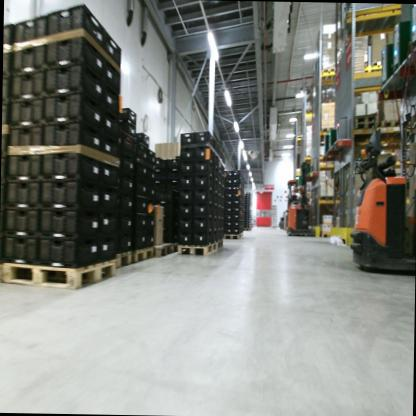pallet: (0, 255, 116, 296), (175, 240, 218, 259), (131, 246, 153, 267), (377, 116, 405, 131), (114, 251, 133, 271), (319, 62, 334, 87), (153, 241, 172, 260), (354, 122, 377, 137), (318, 125, 335, 144), (354, 114, 378, 126), (170, 240, 179, 259), (222, 233, 244, 240), (317, 193, 333, 202), (320, 232, 337, 239), (217, 239, 224, 252), (241, 226, 253, 232)
pallet_truck: (349, 124, 416, 286), (284, 203, 316, 237), (280, 177, 300, 225)
small_load_carrier: (46, 3, 106, 56), (46, 29, 102, 79), (46, 63, 105, 105), (44, 89, 102, 131), (40, 230, 98, 272), (43, 144, 99, 187), (42, 173, 101, 212), (42, 115, 98, 156), (39, 202, 97, 238), (8, 96, 45, 134), (5, 180, 45, 213), (13, 15, 49, 50), (10, 68, 46, 102), (10, 42, 46, 76), (2, 206, 41, 237), (1, 232, 41, 262), (5, 152, 43, 182), (8, 123, 44, 152), (103, 20, 123, 72), (99, 102, 119, 145), (118, 128, 137, 166), (104, 56, 121, 98), (97, 139, 120, 169), (103, 78, 120, 118), (96, 160, 118, 188), (96, 209, 117, 235), (98, 237, 116, 265), (119, 153, 135, 183), (97, 190, 118, 210), (121, 103, 137, 125)
